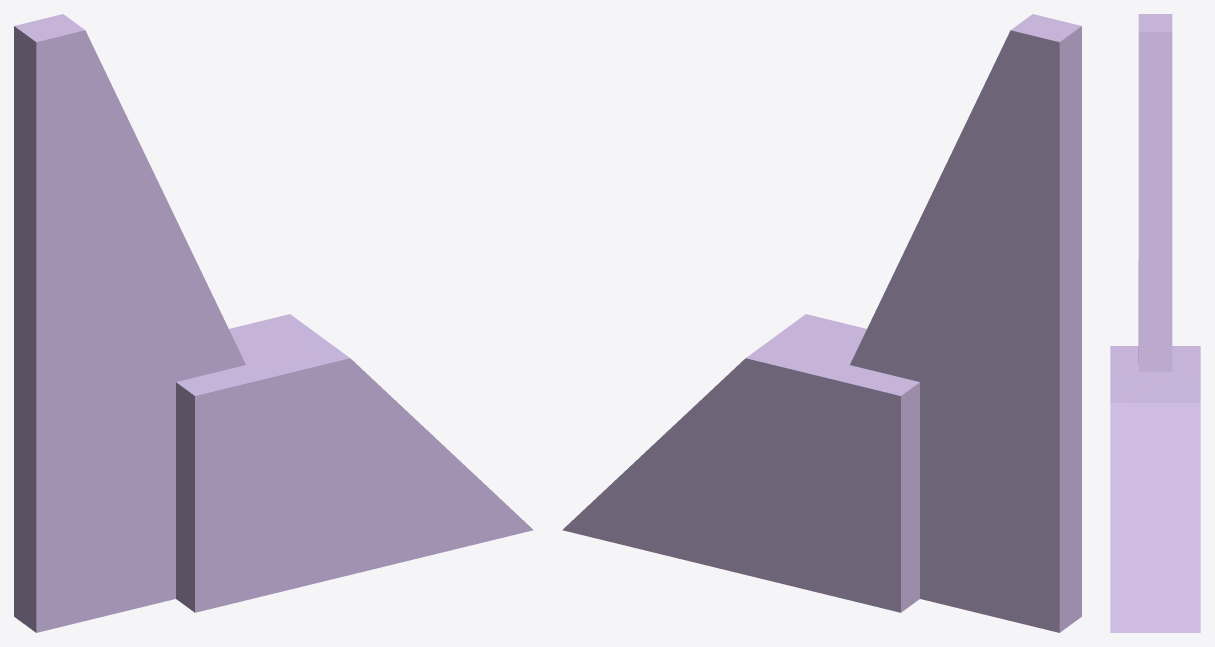
3 views of the same model, side by side, from view 1: azimuth 30°, elevation 25°; view 2: azimuth 150°, elevation 25°; view 3: azimuth 270°, elevation 25° (orthographic). The views are drawn at different scales.
Visible parts, largest first — view 1: Object87; view 2: Object87; view 3: Object87.
Part boxes in pixels (left/top/right/bottom): Object87: left=14, top=14, right=533, bottom=632; Object87: left=562, top=14, right=1081, bottom=632; Object87: left=1110, top=14, right=1200, bottom=632.
Size of the model in its own units: 115 by 135 by 25.06.
